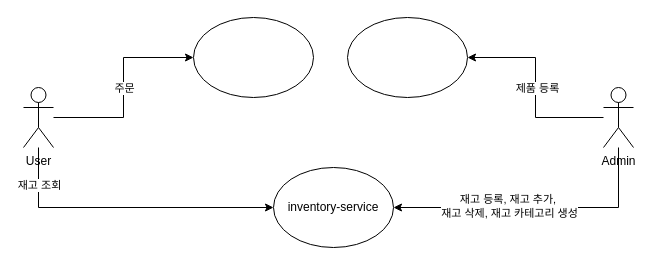
Image size: 653x265. Some labels were removed from this diagram. Here are the shapes that lost their labels. From the top down, the centre of each, then its label:
At (253,57): "order-service".
At (407,57): "product-service".
